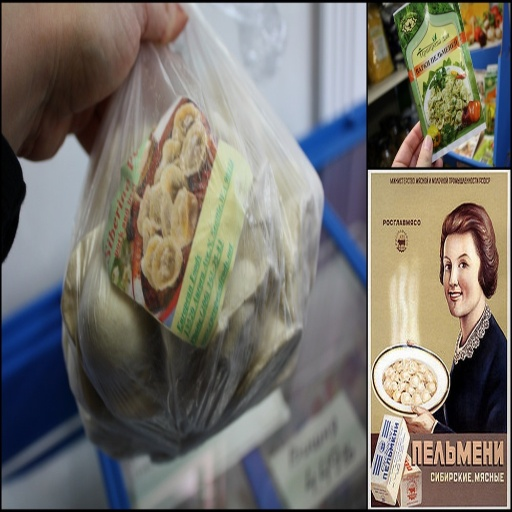hand: (18, 0, 188, 163), (391, 119, 444, 170), (403, 402, 436, 438)
